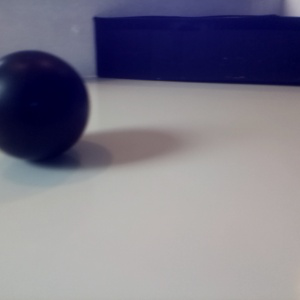zone: (94, 14, 300, 85)
